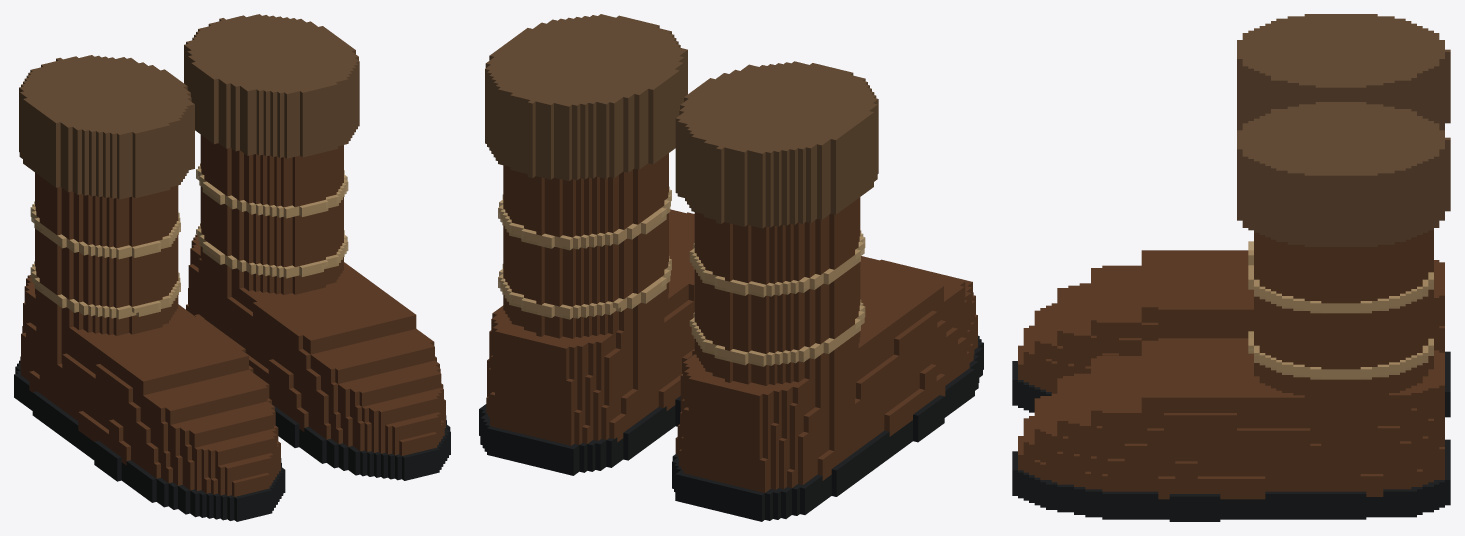
Rendered from boots_fur.glb.
3 renders of one model, left to right at view 1: azimuth 30°, elevation 25°; view 2: azimuth 150°, elevation 25°; view 3: azimuth 270°, elevation 25°, orthographic. The views are drawn at different scales.
Visible parts, largest first — view 1: boots_fur:compound; view 2: boots_fur:compound; view 3: boots_fur:compound.
Part boxes in pixels (left/top/right/bottom): boots_fur:compound: left=14, top=14, right=450, bottom=521; boots_fur:compound: left=479, top=14, right=983, bottom=521; boots_fur:compound: left=1012, top=14, right=1450, bottom=521.
Size of the model in its own units: 0.272 by 0.272 by 0.312.
